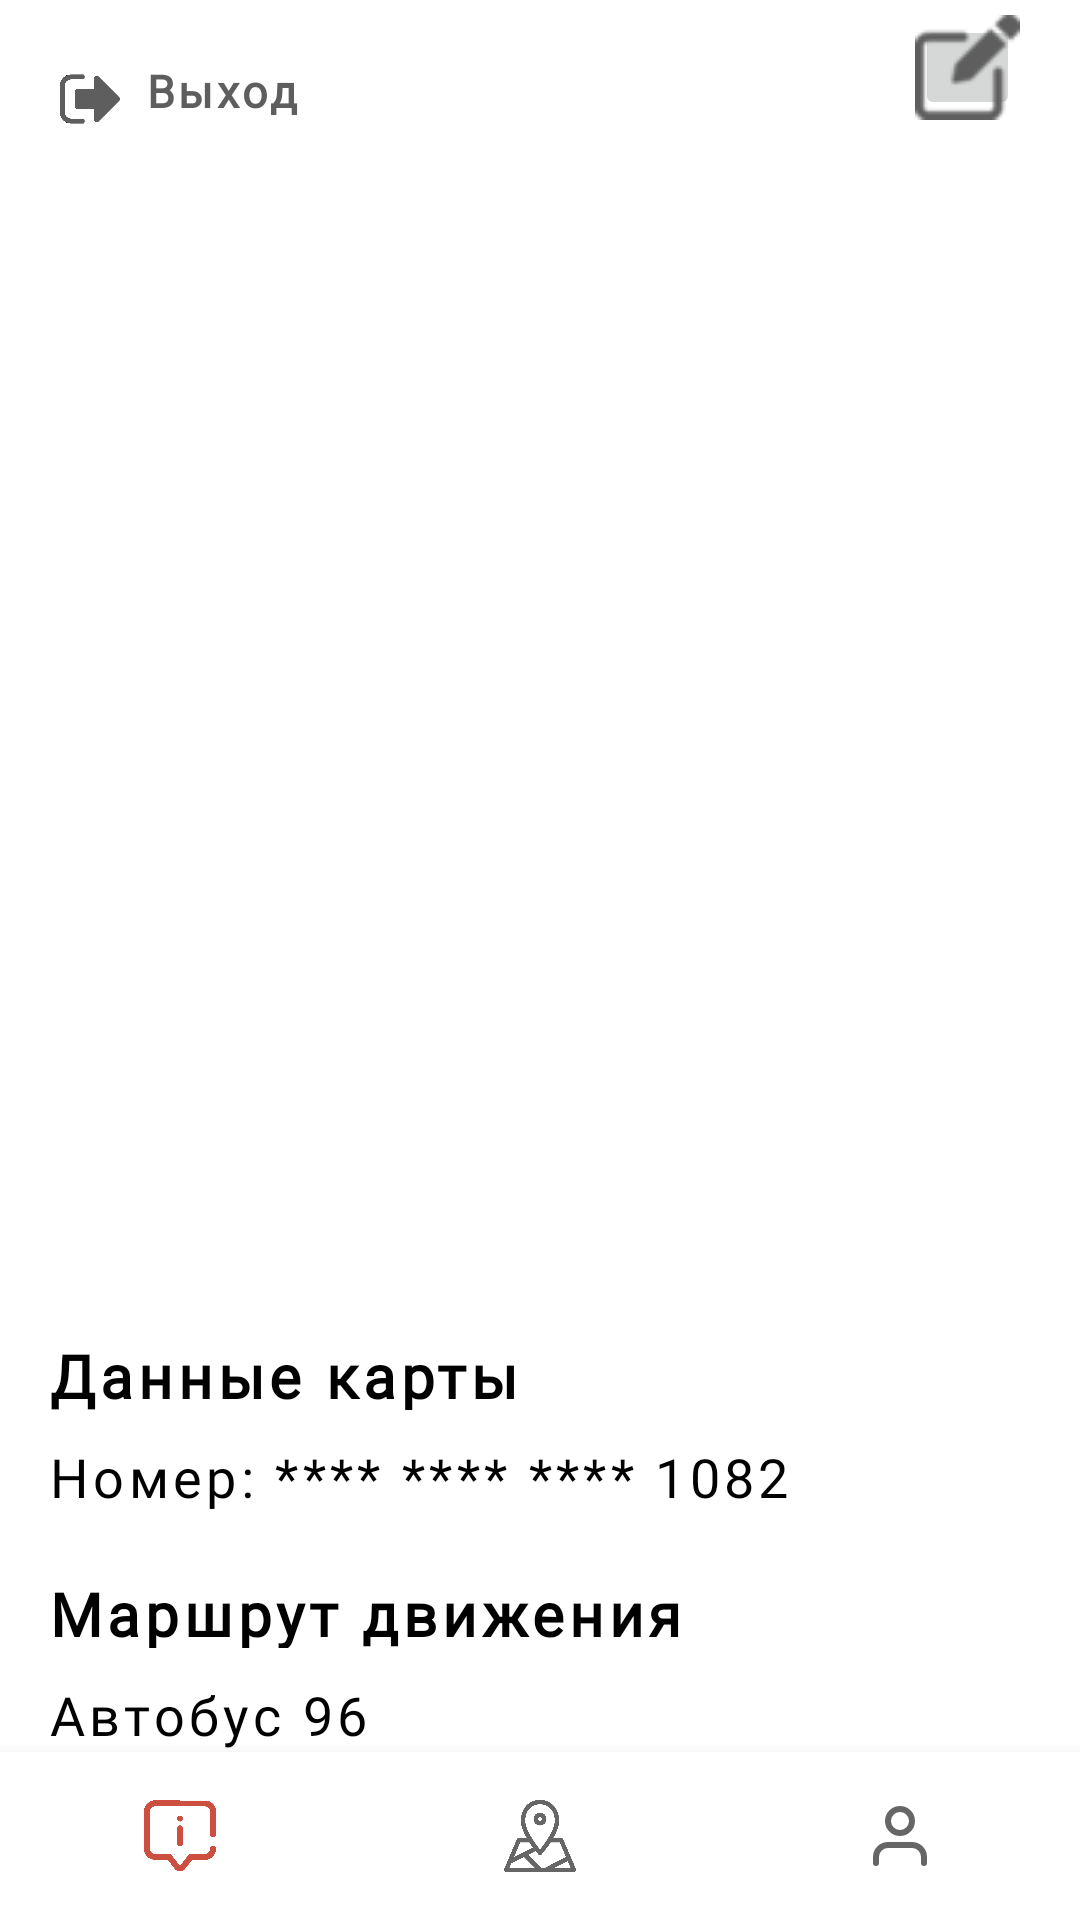

Point at icon controls on the screen. Image size 1080x1920, points as (x,y).
edit: (967,67)
exit: (90,99)
